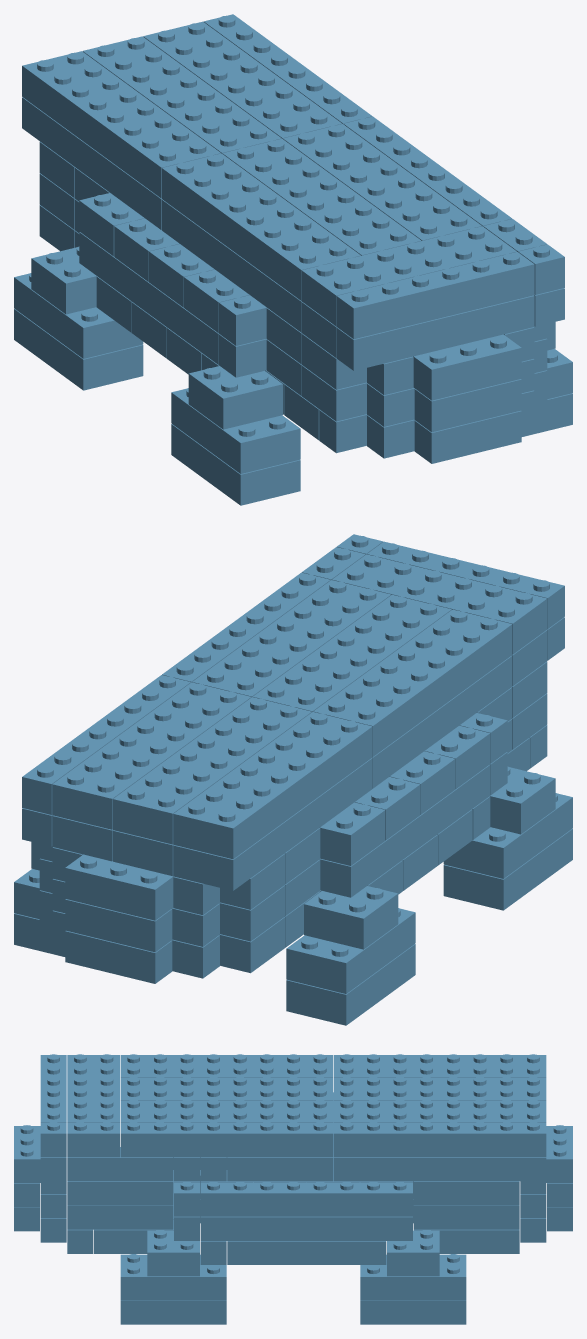
The model's file is 250_train_L5.glb.
The picture shows the model from 3 angles, top to bottom: view 1: azimuth 30°, elevation 25°; view 2: azimuth 150°, elevation 25°; view 3: azimuth 270°, elevation 25°; orthographic projection. The views are drawn at different scales.
Bounding box in the file's own units: 10.98 × 7.13 × 20.98.
